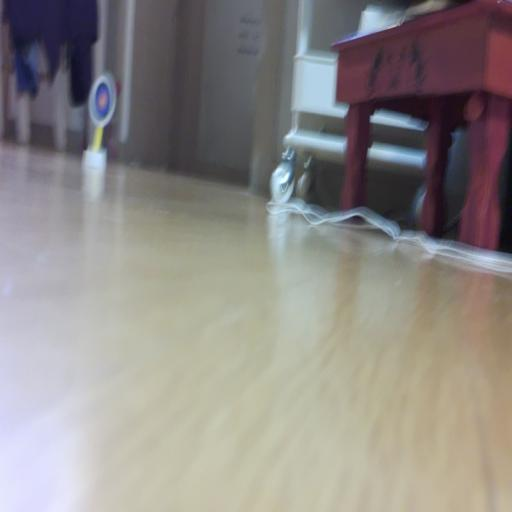target: (88, 73, 117, 128)
